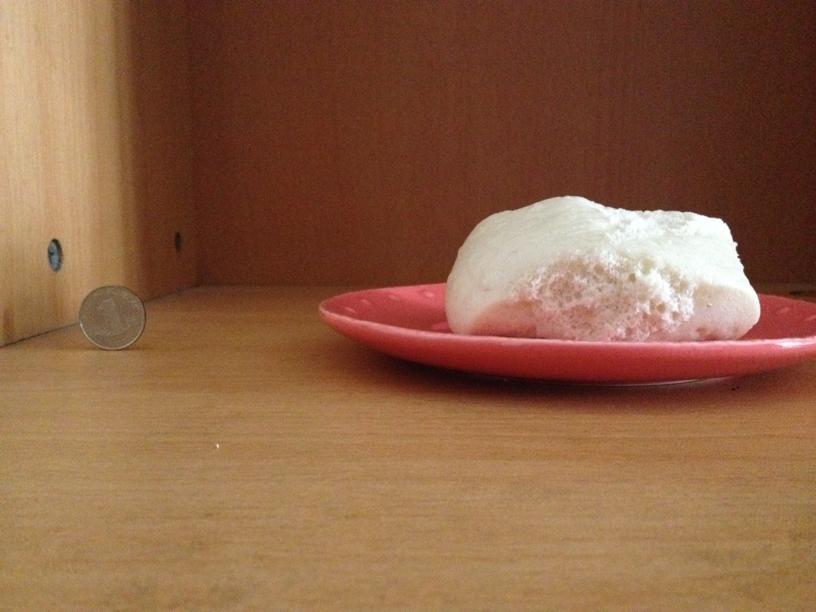bun: (447, 209, 758, 337)
coin: (76, 286, 146, 350)
